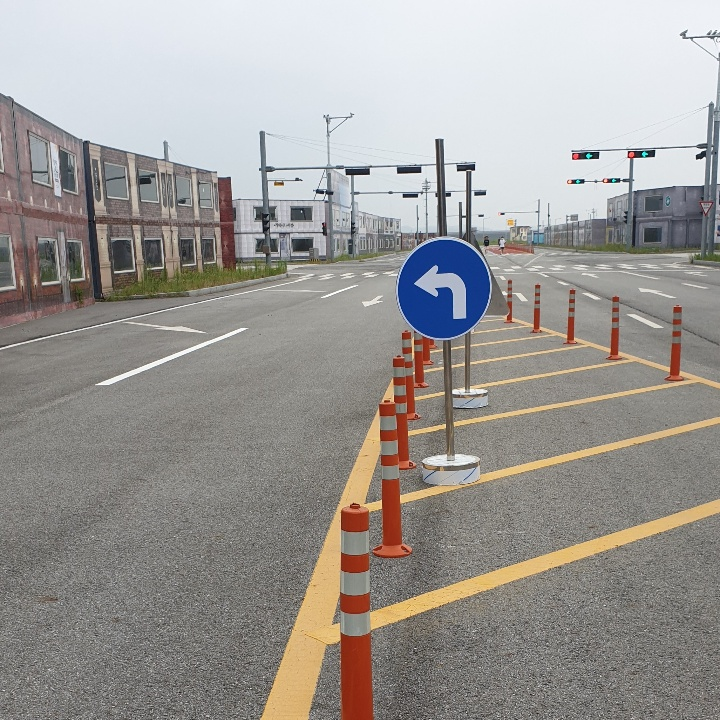left: (410, 259, 477, 328)
